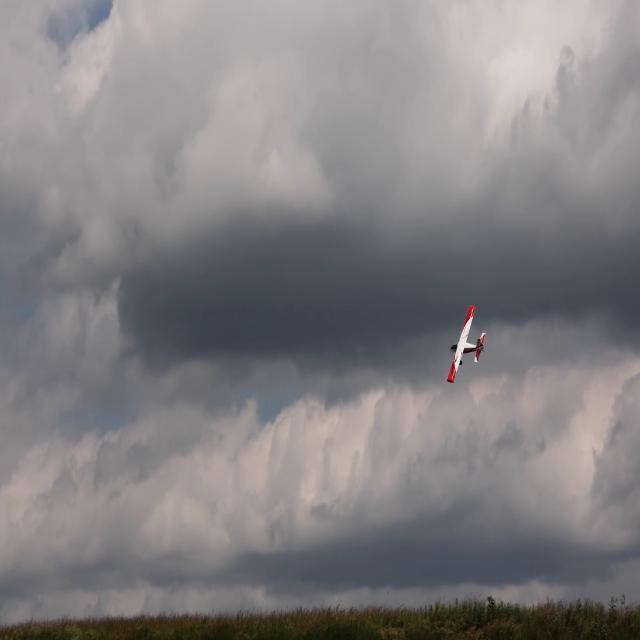iha: (445, 337, 485, 355)
